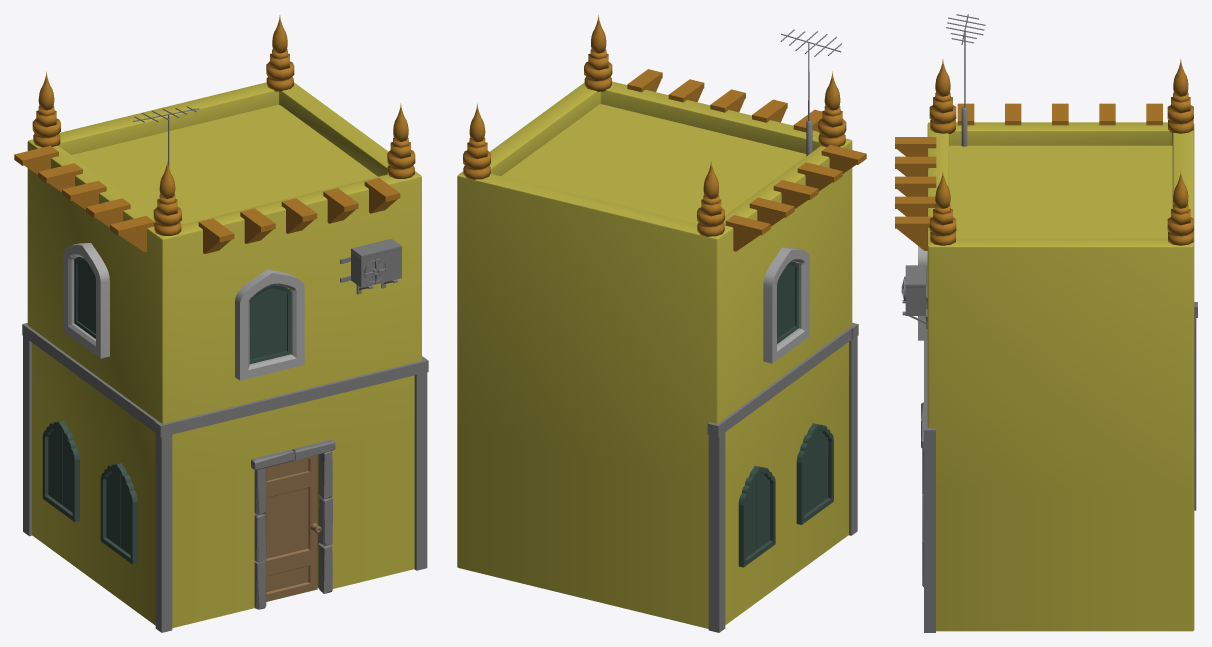
File: SM_building_india_03.fbx
3 views of the same model, side by side, from view 1: azimuth 30°, elevation 25°; view 2: azimuth 150°, elevation 25°; view 3: azimuth 270°, elevation 25° (orthographic).
Visible parts, largest first — view 1: Object32671; view 2: Object32671; view 3: Object32671.
Part boxes in pixels (<box>): Object32671: <box>14,15,428,632</box>; Object32671: <box>457,15,866,632</box>; Object32671: <box>895,14,1197,632</box>.
Bounding box in the file's own units: 204 × 333 × 186.
